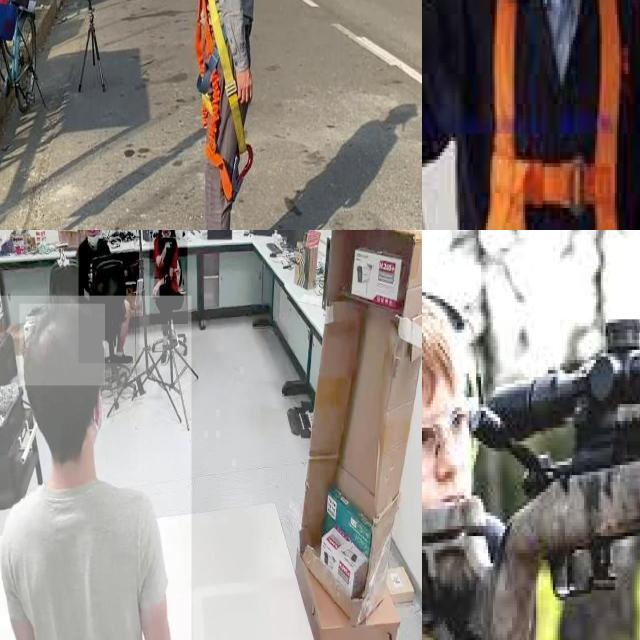Harness: (451, 0, 632, 230), (196, 0, 254, 204)
hand_noglove: (150, 279, 160, 298)
head_nohelmet: (20, 304, 106, 386)
person: (0, 295, 191, 640), (78, 230, 139, 363), (149, 230, 188, 324)
shoes: (156, 335, 172, 369), (113, 347, 135, 368), (167, 321, 181, 349)
